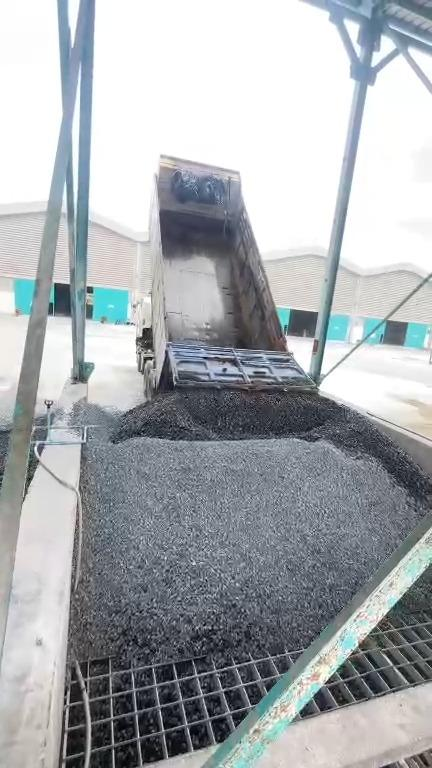gravel: (65, 391, 431, 662), (373, 565, 431, 633), (230, 257, 250, 348), (22, 444, 39, 506), (0, 422, 12, 495), (50, 402, 67, 426), (31, 428, 47, 441), (34, 412, 48, 426), (37, 443, 46, 457)
sand: (380, 398, 431, 439)
